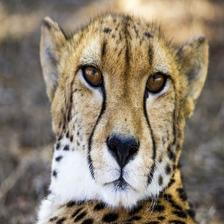Cheetah: (28, 9, 210, 224)
